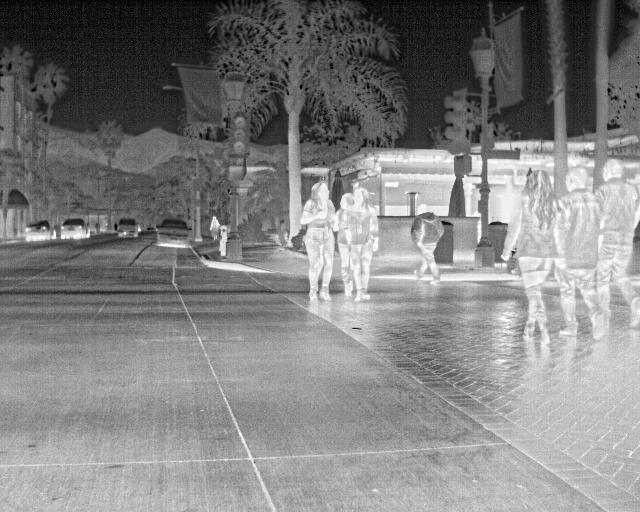bicycle: (155, 219, 194, 249), (25, 220, 57, 244), (59, 217, 91, 241), (114, 218, 142, 239)
empty: (502, 166, 563, 345), (550, 164, 602, 337), (595, 159, 639, 335), (297, 181, 336, 306), (341, 189, 376, 302), (411, 202, 448, 282), (338, 192, 355, 212), (208, 216, 221, 242)
